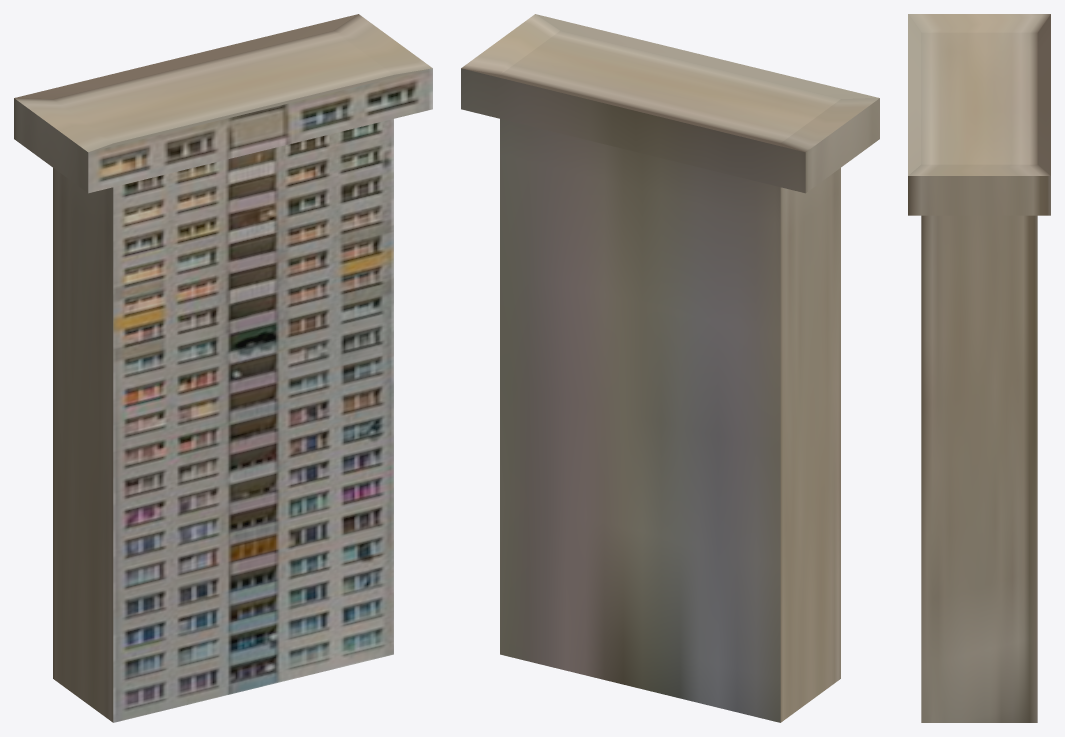
The model's file is House.fbx.
3 views of the same model, side by side, from view 1: azimuth 30°, elevation 25°; view 2: azimuth 150°, elevation 25°; view 3: azimuth 270°, elevation 25° (orthographic). The views are drawn at different scales.
Visible parts, largest first — view 1: Cube.002; view 2: Cube.002; view 3: Cube.002.
Boxes of the visible parts, bbox=[...] form: Cube.002: bbox=[14, 14, 432, 722]; Cube.002: bbox=[461, 14, 879, 722]; Cube.002: bbox=[908, 14, 1050, 722].
Bounding box in the file's own units: 659 × 1066 × 246.
